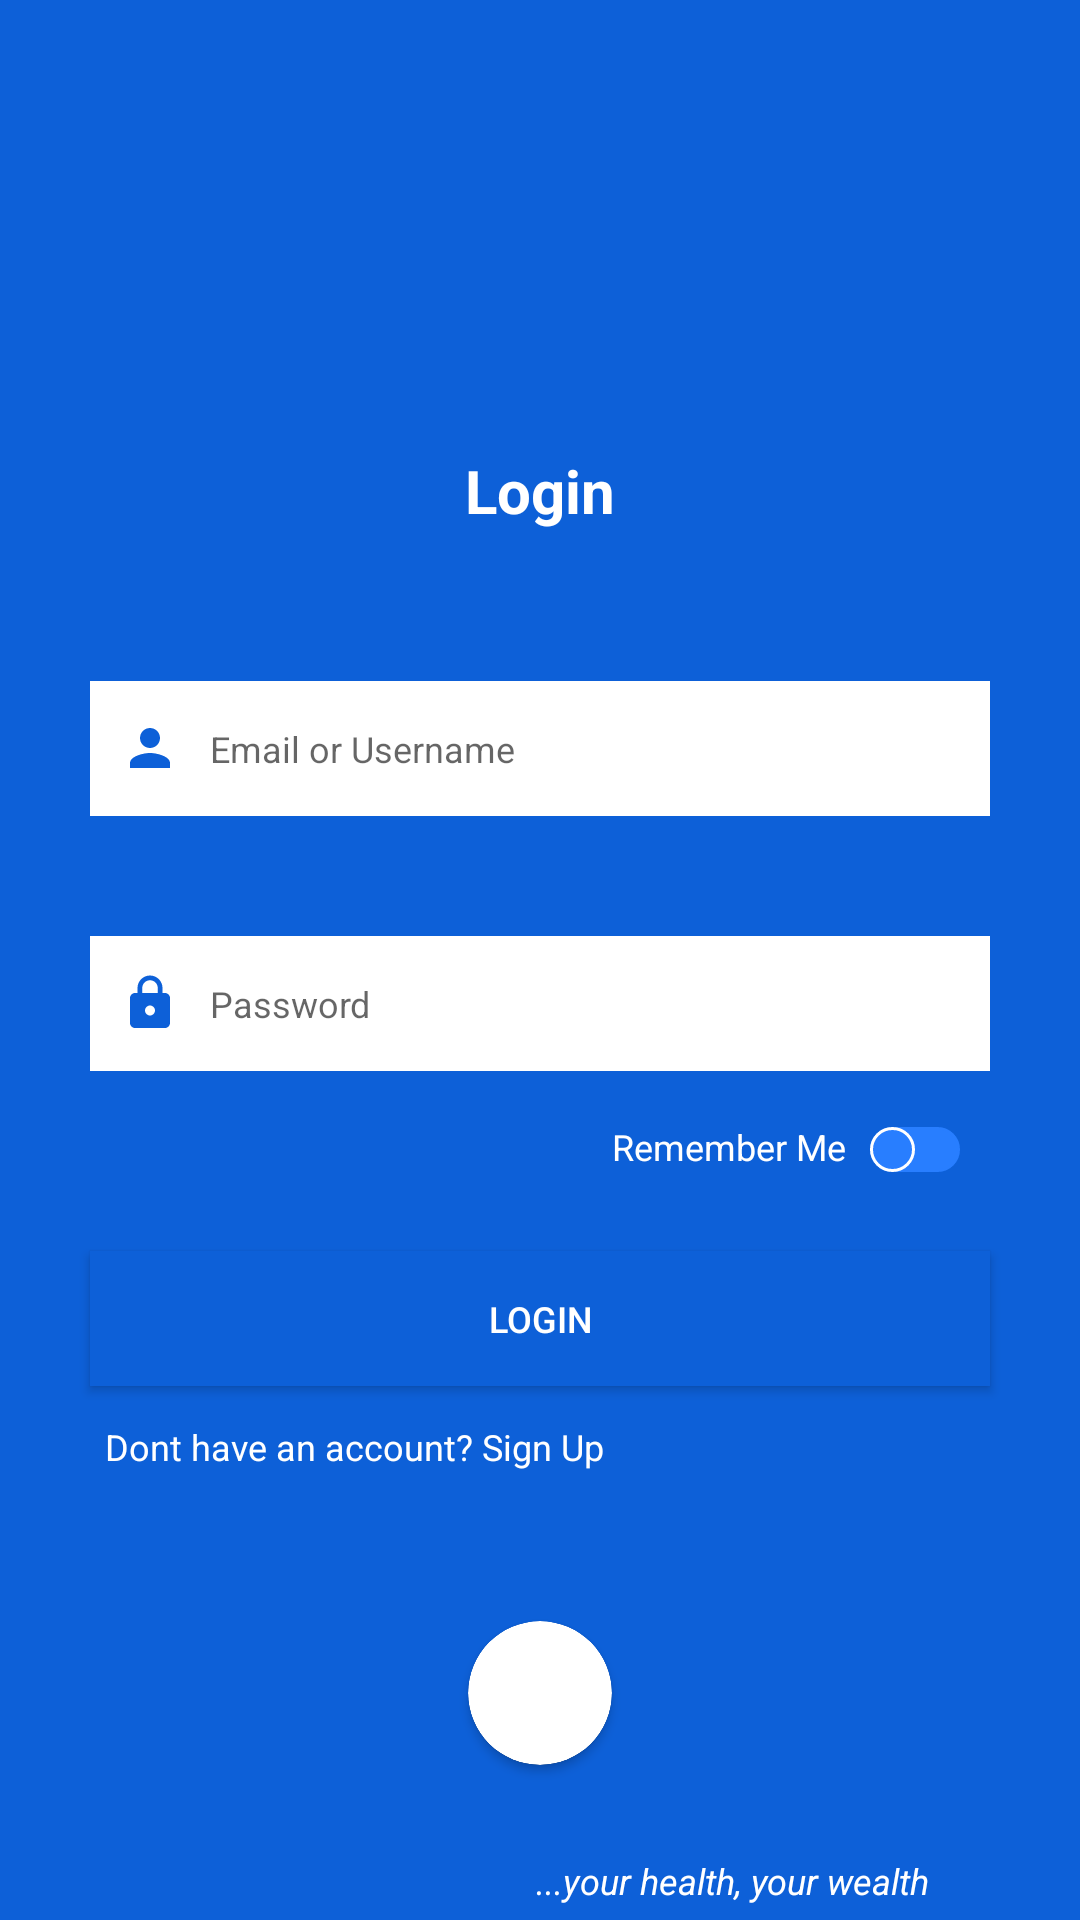

Icon bounding boxes for this 1080w x 1920h phone screenshot, format {"left": x1, "top": y1, "right": x2, "bottom": y2}:
lock: {"left": 130, "top": 975, "right": 170, "bottom": 1028}
person: {"left": 130, "top": 728, "right": 170, "bottom": 768}
